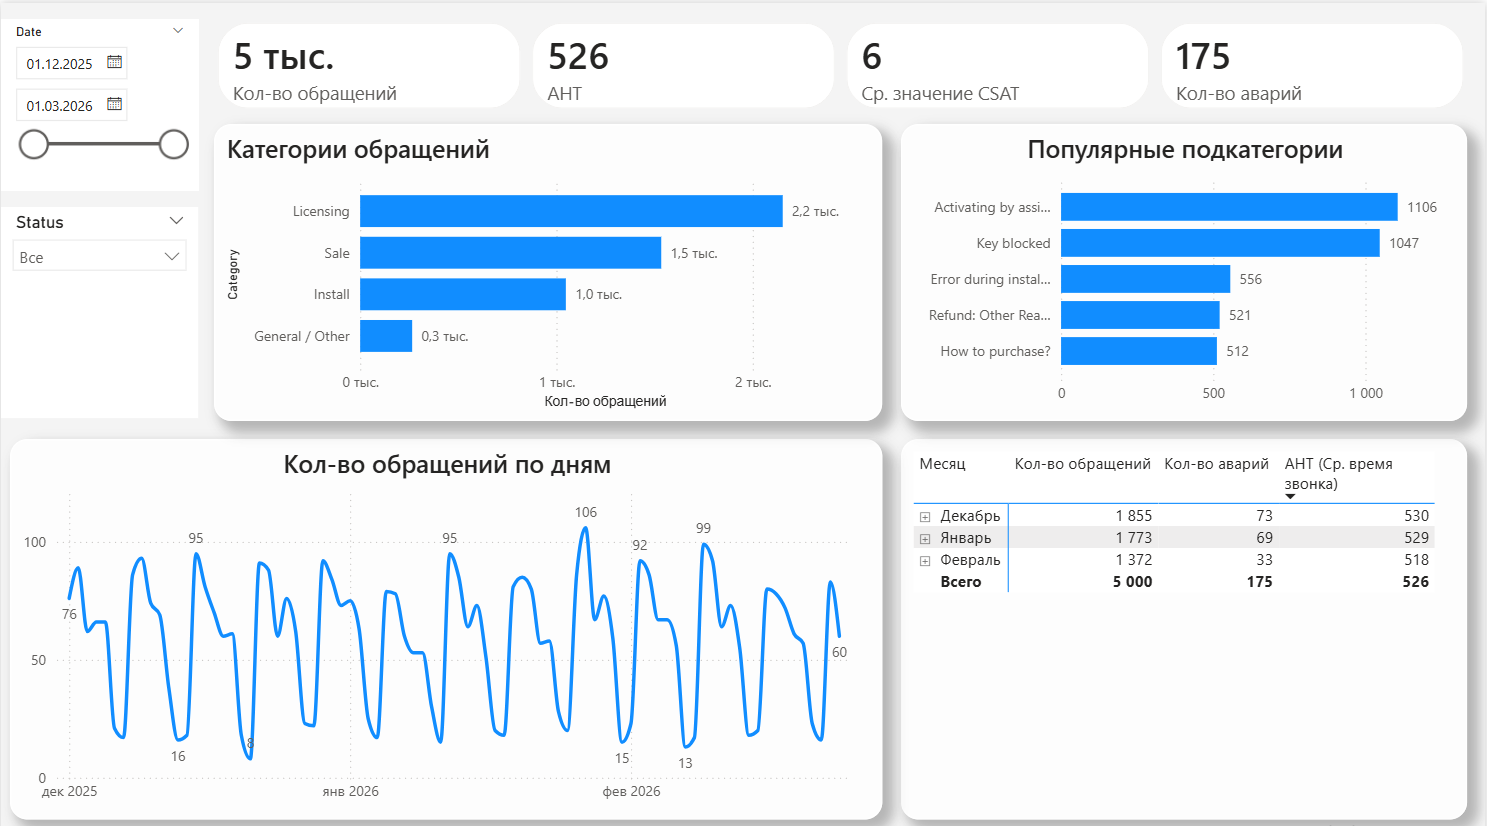

The page's visual inventory and layout, read from the dashboard file:
{"tool":"powerbi","page":{"name":"Обзор для руководителя","canvas":[1280,720],"ordinal":0},"visuals":[{"type":"cardVisual","fields":{"Data":["DAX.Кол-во обращений","DAX.AHT (Среднее время звонка)","DAX.Ср. значение CSAT","DAX.Кол-во аварий"]},"box":[170.2,0,1108.8,108.9],"z":0},{"type":"pivotTable","fields":{"Values":["DAX.Кол-во обращений","DAX.Кол-во аварий","DAX.AHT (Среднее время звонка)"],"Rows":["Календарь.Date.Изменение.Иерархия дат.Месяц","Календарь.Date.Изменение.Иерархия дат.День"]},"box":[776,376,472,328],"z":1000},{"type":"slicer","fields":{"Values":["Календарь.Date"]},"box":[0,13.6,170.2,147.8],"z":2000},{"type":"slicer","fields":{"Values":["kaspersky_support_data.Status"]},"box":[0,176,170.2,181.9],"z":3000},{"type":"lineChart","title":"Кол-во обращений по дням","fields":{"Y":["DAX.Кол-во обращений"],"Category":["Календарь.Date"]},"box":[8,376,752,328],"z":4000},{"type":"clusteredBarChart","title":"Категории обращений","fields":{"Category":["kaspersky_support_data.Category"],"Y":["DAX.Кол-во обращений"]},"box":[184,104,576,256],"z":5000},{"type":"clusteredBarChart","title":"Популярные подкатегории","fields":{"Y":["DAX.Кол-во обращений"],"Category":["kaspersky_support_data.Subcategory"]},"box":[776,104,472,256],"z":6000}]}

Visuals, with their boxes in screenshot pixels (x1, y1, x2, y2), scaled from the page's 1280x720 canvas onto the 1487x826 screenshot:
cardVisual - DAX.Кол-во обращений x DAX.AHT (Среднее время звонка): 198 0 1486 125
pivotTable - DAX.Кол-во обращений x DAX.Кол-во аварий: 901 431 1450 808
slicer - Календарь.Date: 0 16 198 185
slicer - kaspersky_support_data.Status: 0 202 198 411
"Кол-во обращений по дням" lineChart: 9 431 883 808
"Категории обращений" clusteredBarChart: 214 119 883 413
"Популярные подкатегории" clusteredBarChart: 901 119 1450 413
